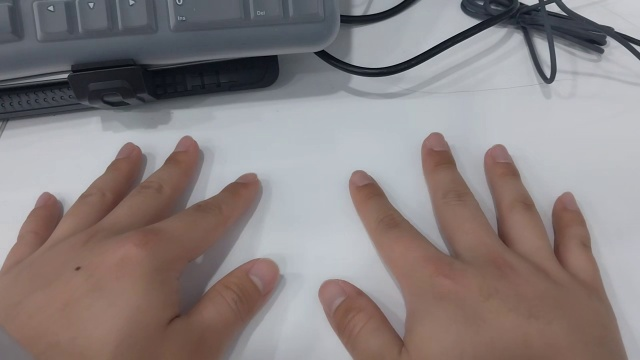fingers: (248, 257, 280, 295), (317, 278, 347, 315), (488, 143, 513, 164), (424, 131, 448, 151), (349, 169, 375, 187), (172, 135, 194, 155), (559, 190, 579, 212), (115, 141, 136, 161), (234, 171, 259, 185), (34, 190, 51, 208)
